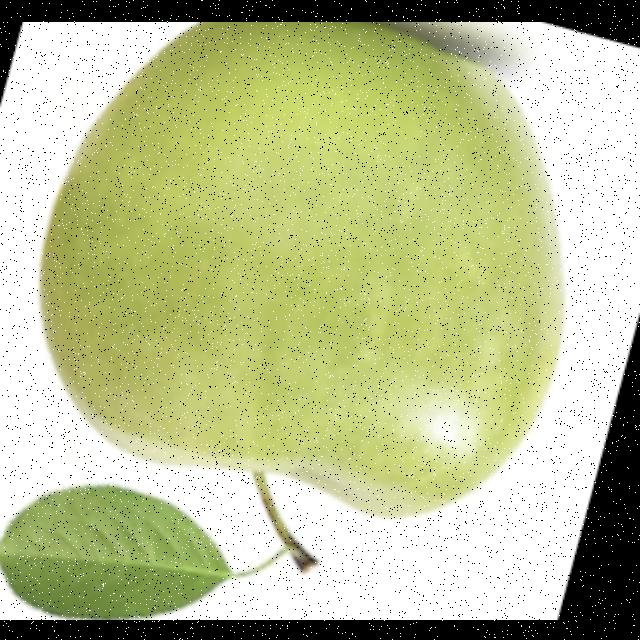Apel Segar: (34, 20, 574, 533)
